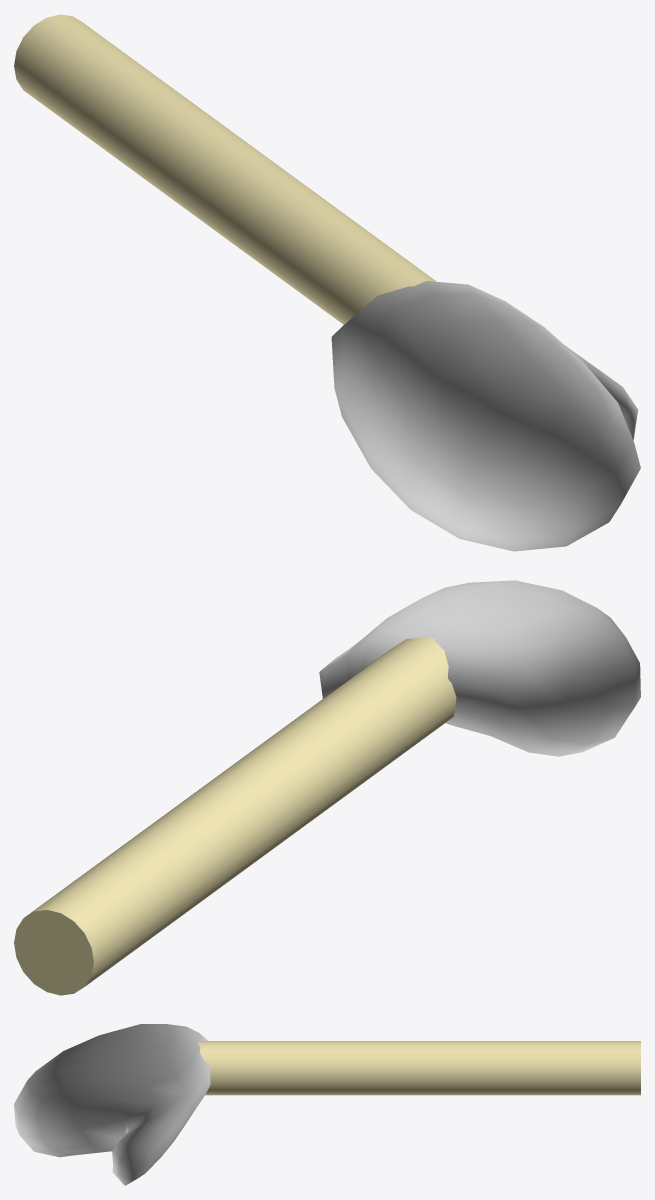
The model's file is Arm.FBX.
3 renders of one model, top to bottom at view 1: azimuth 30°, elevation 25°; view 2: azimuth 150°, elevation 25°; view 3: azimuth 270°, elevation 25°, orthographic. The views are drawn at different scales.
Parts seen in each view (by area): view 1: GEO_ch_body, Cylinder001; view 2: Cylinder001, GEO_ch_body; view 3: Cylinder001, GEO_ch_body.
Part boxes in pixels (bbox=[...]): GEO_ch_body: bbox=[331, 281, 640, 551]; Cylinder001: bbox=[14, 14, 436, 324]; Cylinder001: bbox=[14, 637, 456, 995]; GEO_ch_body: bbox=[319, 580, 640, 756]; Cylinder001: bbox=[197, 1041, 640, 1095]; GEO_ch_body: bbox=[14, 1024, 210, 1185].
Bounding box in the file's own units: 0.8276 × 0.5229 × 2.75.
